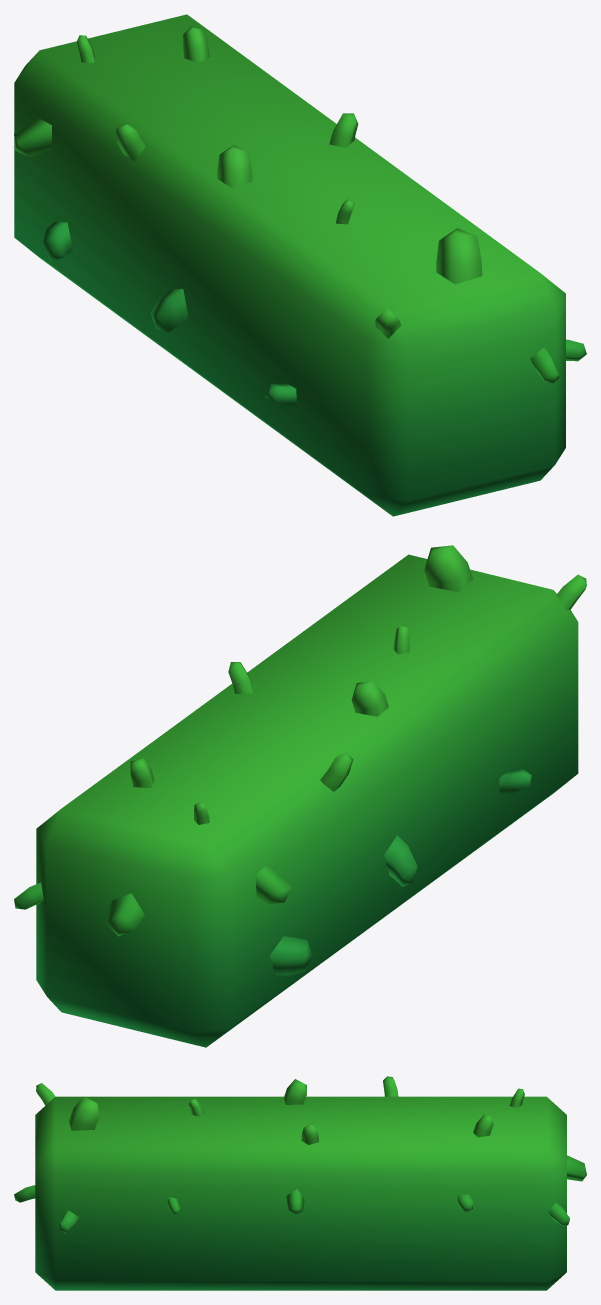
The model's file is Bush_1_B_1.fbx.
The picture shows the model from 3 angles, top to bottom: view 1: azimuth 30°, elevation 25°; view 2: azimuth 150°, elevation 25°; view 3: azimuth 270°, elevation 25°; orthographic projection. The views are drawn at different scales.
Visible parts, largest first — view 1: Bush_1_B_1; view 2: Bush_1_B_1; view 3: Bush_1_B_1.
Boxes of the visible parts, x1,y1,x2,y2 form: Bush_1_B_1: (14,14,586,516); Bush_1_B_1: (14,545,586,1047); Bush_1_B_1: (14,1076,586,1290).
Size of the model in its own units: 79.36 by 73.97 by 223.
